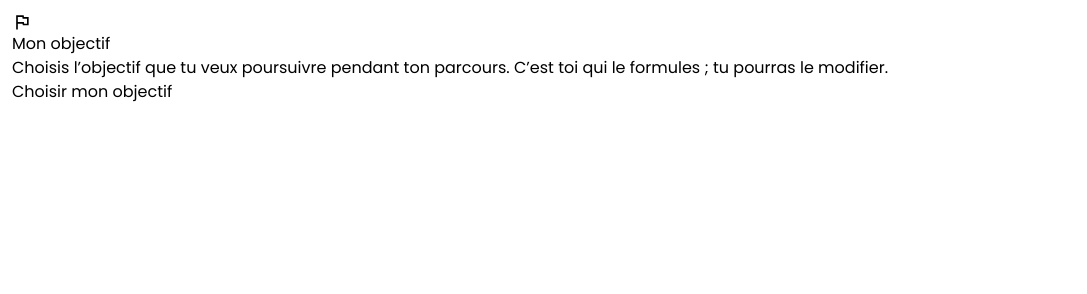
Carte Mon objectif › sans objectif : le participant le formule et le confirme lui-même
The image size is (1087, 294).
Later steps or results of the test are not shown.
expect the text "C’est toi qui le formules" is shown: met, box [12, 56, 888, 79]
Click the button "Choisir mon objectif" at (92, 92), box [12, 80, 172, 104]
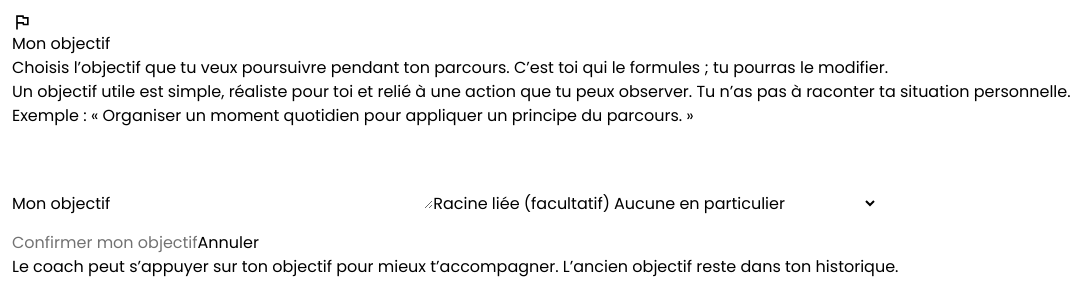
expect the button "Confirmer mon objectif" is disabled: met, box [12, 231, 198, 255]
